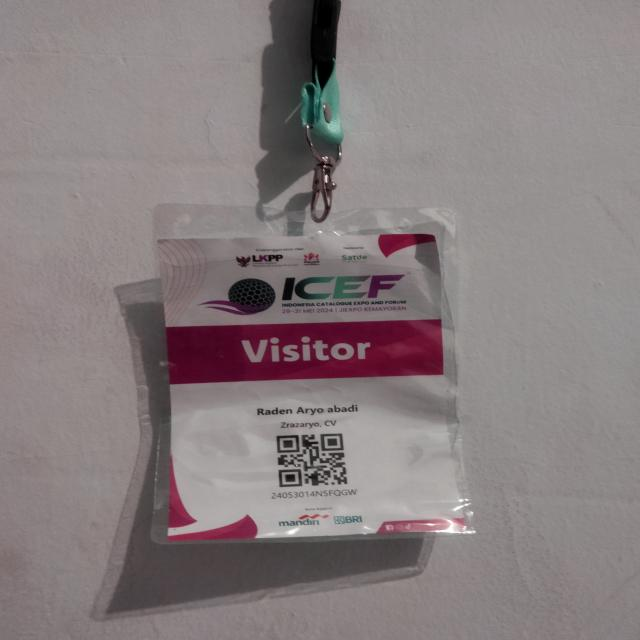ID_card: (150, 206, 476, 544)
